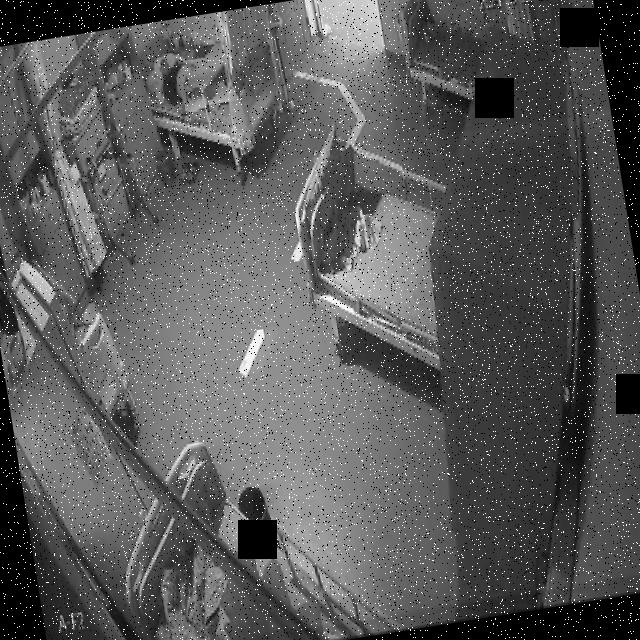bed: (102, 417, 377, 640), (288, 130, 466, 378), (143, 25, 290, 162), (394, 0, 493, 109)
lie: (154, 42, 232, 111)
patient: (154, 46, 203, 111)
walker: (74, 121, 166, 272)
